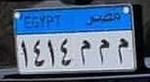1: (46, 38, 57, 67), (21, 40, 30, 68)
4: (58, 38, 73, 68), (31, 38, 46, 68)
meem: (115, 37, 129, 66), (77, 39, 92, 66), (97, 38, 110, 66)
